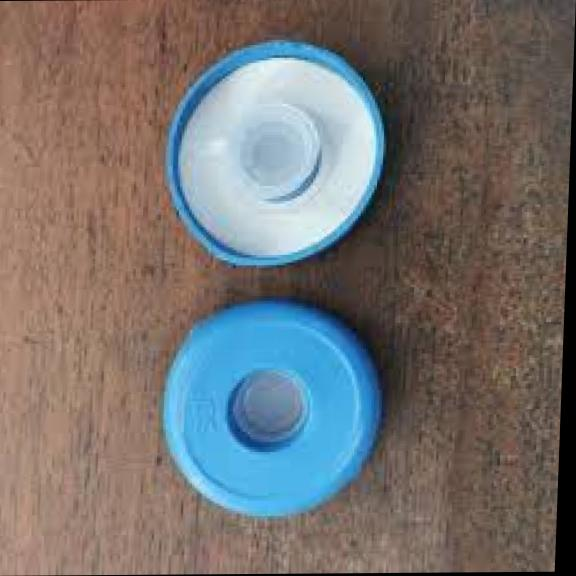Plastik: (165, 36, 388, 267), (161, 298, 387, 518)
